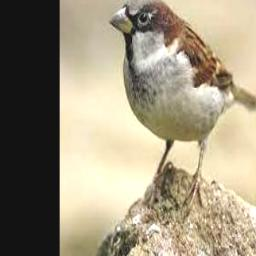Sparrow: (108, 0, 256, 209)
